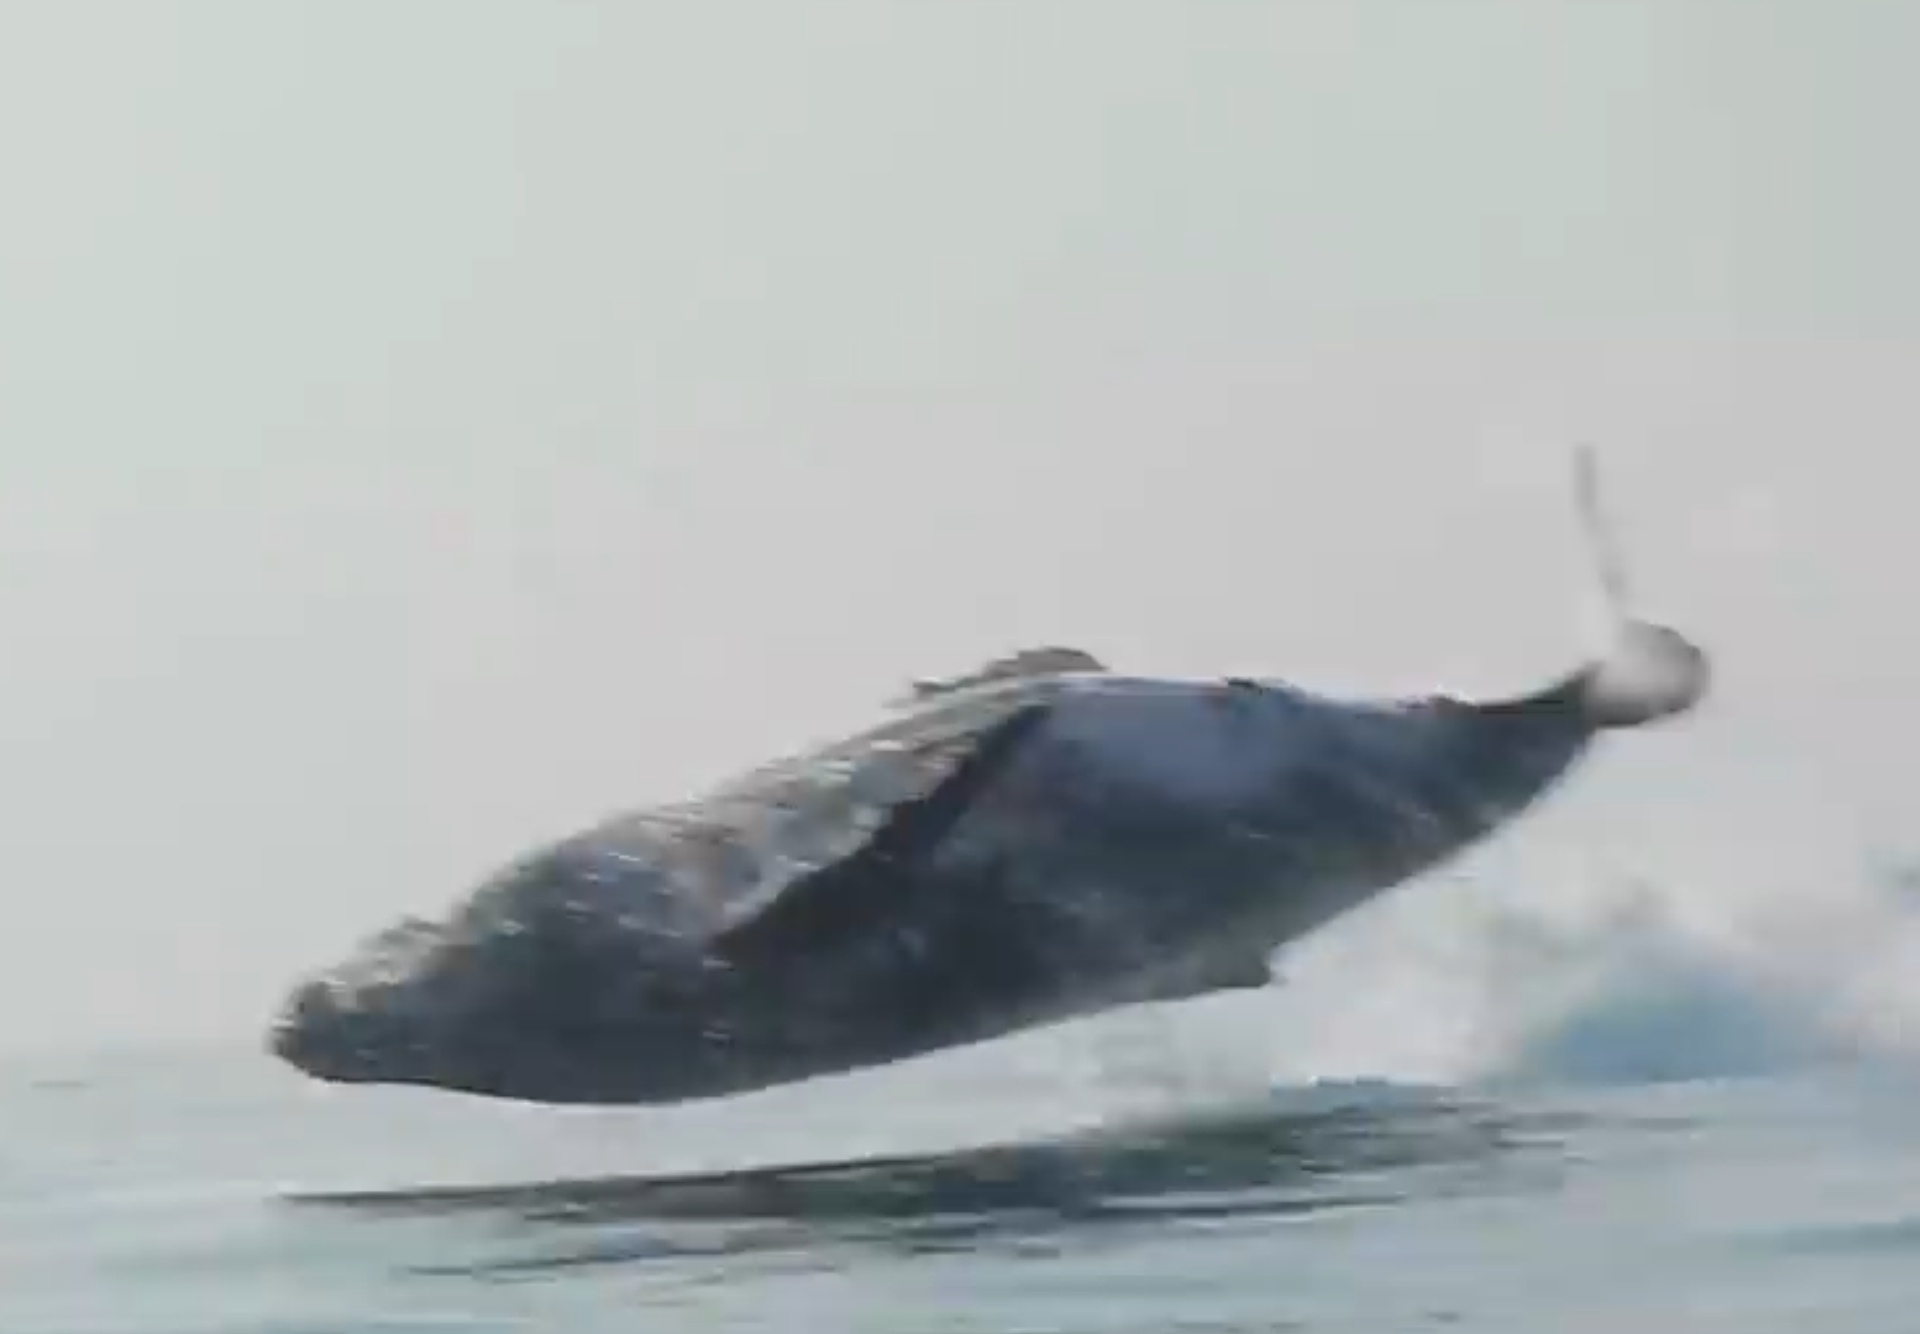humpback: (267, 619, 1710, 1105)
